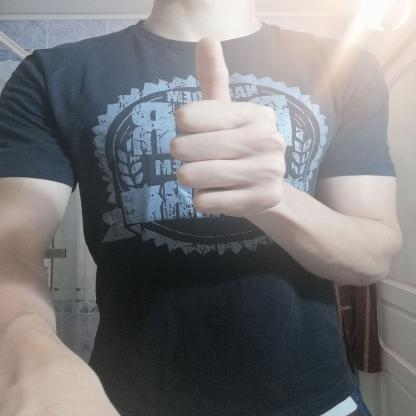ALIF: (151, 28, 306, 228)
